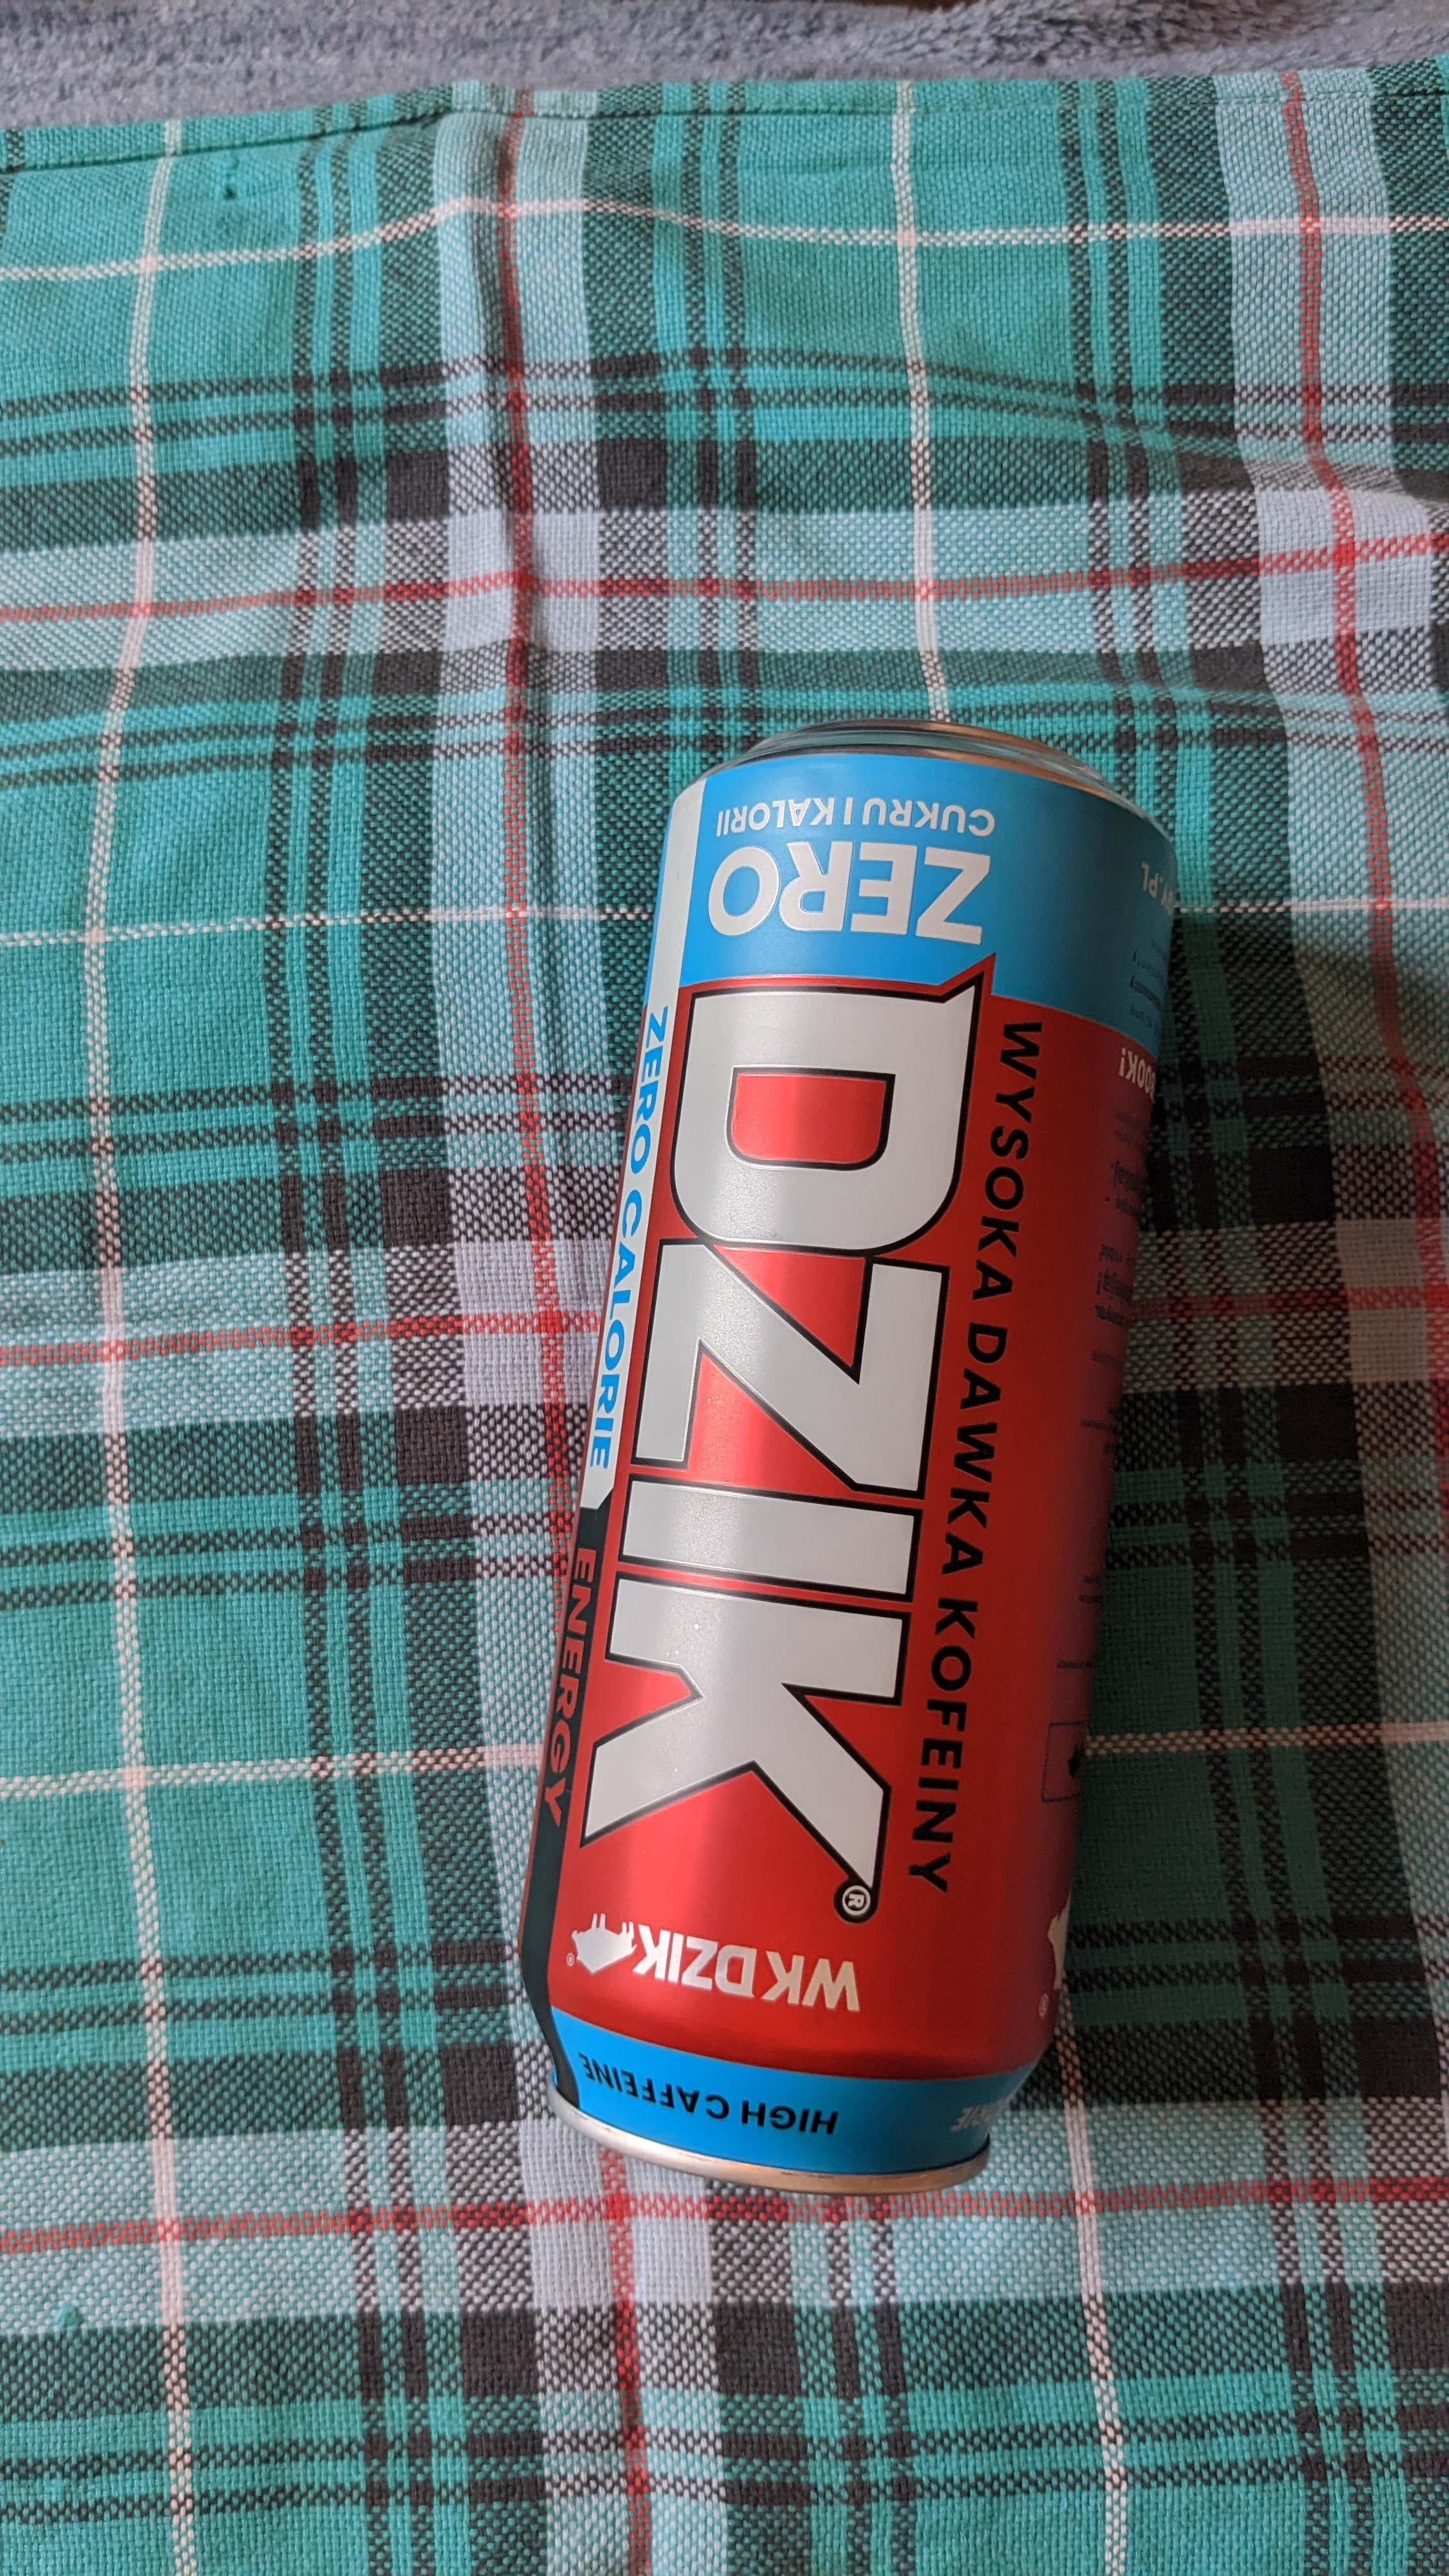dzik: (559, 699, 1143, 2204)
